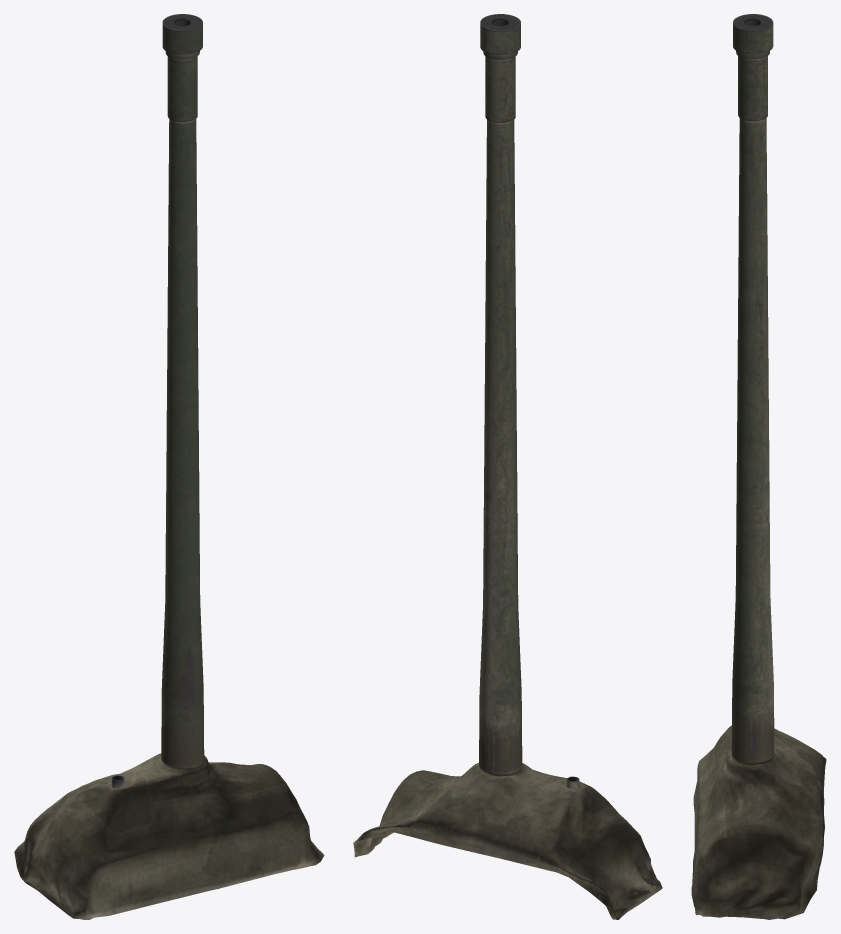
The model's file is Gun_01.glb.
3 renders of one model, left to right at view 1: azimuth 30°, elevation 25°; view 2: azimuth 150°, elevation 25°; view 3: azimuth 270°, elevation 25°, orthographic.
Parts seen in each view (by area): view 1: set_0_group_0; view 2: set_0_group_0; view 3: set_0_group_0.
Part boxes in pixels (<box>): set_0_group_0: <box>14,14,324,919</box>; set_0_group_0: <box>353,14,662,919</box>; set_0_group_0: <box>691,14,826,919</box>.
Bounding box in the file's own units: 1.57 × 4.86 × 0.7057.
1 material, 1 textured.
